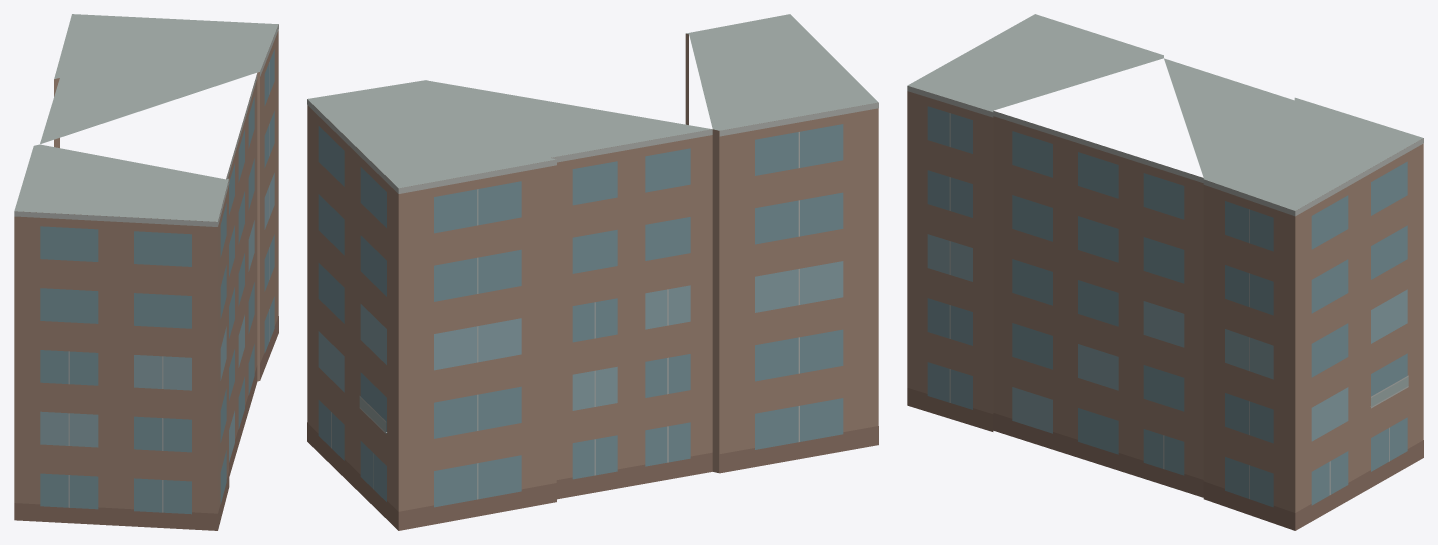
File: survey-upis-32890019.glb
3 views of the same model, side by side, from view 1: azimuth 30°, elevation 25°; view 2: azimuth 150°, elevation 25°; view 3: azimuth 270°, elevation 25° (orthographic). The views are drawn at different scales.
Parts seen in each view (by area): view 1: survey-upis-32890019.tmp; view 2: survey-upis-32890019.tmp; view 3: survey-upis-32890019.tmp.
Boxes of the visible parts, box(x1,y1,x2,y2) form: survey-upis-32890019.tmp: box(14, 14, 278, 530); survey-upis-32890019.tmp: box(307, 14, 878, 530); survey-upis-32890019.tmp: box(907, 14, 1423, 530).
Size of the model in its own units: 19.16 by 14.5 by 21.23.
